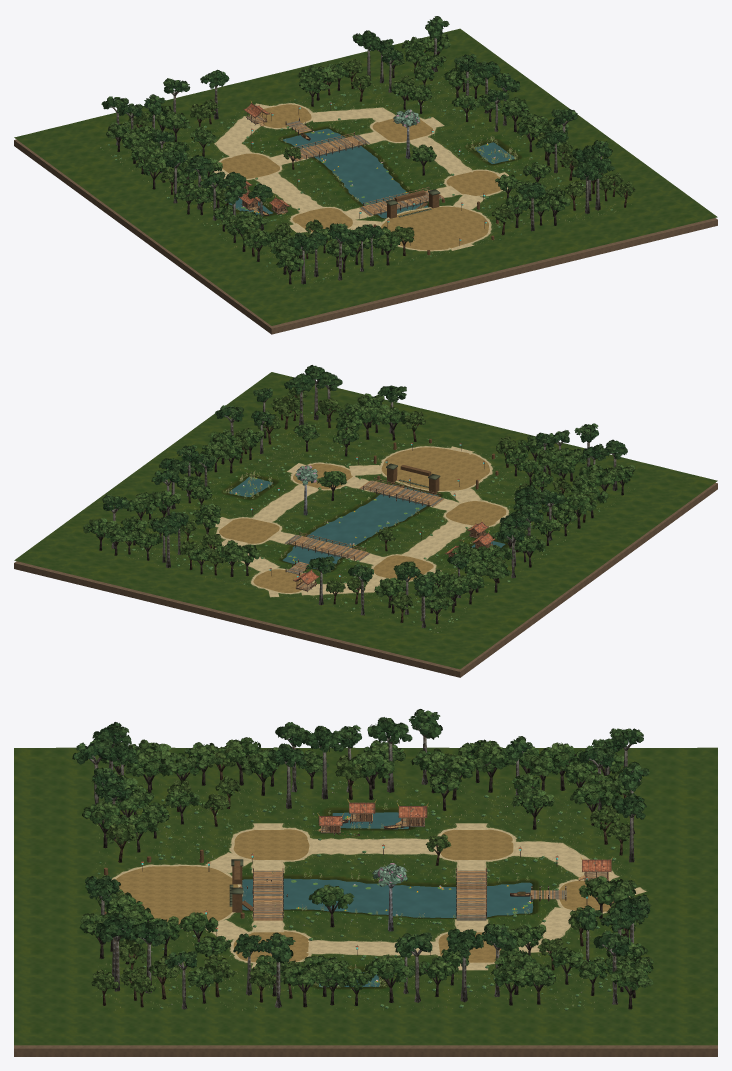
Rendered from rebirth-ferry.glb.
3 views of the same model, one above another, from view 1: azimuth 30°, elevation 25°; view 2: azimuth 150°, elevation 25°; view 3: azimuth 270°, elevation 25° (orthographic). The views are drawn at different scales.
Parts seen in each view (by area): view 1: Ground - varied meadow | meadow_rb, Tracks - worn earth | path_rb, Soil foundation | earth, Tracks - worn earth | path, Water surface | water, Feathered road shoulders | path_edge, Bridge / separate deck boards | plank, Bridge / separate deck boards | wood_light, Bridge / separate deck boards | wood_weathered, Organic understory shrubs | leaf, Bridge / side handrails | wood_light; view 2: Ground - varied meadow | meadow_rb, Tracks - worn earth | path_rb, Soil foundation | earth, Water surface | water, Tracks - worn earth | path, Feathered road shoulders | path_edge, Bridge / separate deck boards | wood_light, Bridge / separate deck boards | plank, Bridge / separate deck boards | wood_weathered, Bridge / side handrails | wood_light; view 3: Ground - varied meadow | meadow_rb, Tracks - worn earth | path_rb, Soil foundation | earth, Water surface | water, Tracks - worn earth | path, Feathered road shoulders | path_edge, Bridge / separate deck boards | wood_light, Bridge / separate deck boards | wood_weathered, Bridge / separate deck boards | plank, Organic understory shrubs | leaf, Roof / overlapping clay tiles | roof, Organic tree foliage | rain-110.008 (+42 smaller).
Boxes of the visible parts, x1,y1,x2,y2 form: Ground - varied meadow | meadow_rb: (14, 28, 717, 325); Tracks - worn earth | path_rb: (221, 104, 501, 250); Soil foundation | earth: (14, 139, 717, 334); Tracks - worn earth | path: (214, 104, 508, 250); Water surface | water: (225, 128, 514, 218); Feathered road shoulders | path_edge: (214, 103, 508, 251); Bridge / separate deck boards | plank: (291, 124, 444, 215); Bridge / separate deck boards | wood_light: (288, 122, 443, 213); Bridge / separate deck boards | wood_weathered: (286, 120, 441, 215); Organic understory shrubs | leaf: (108, 79, 612, 279); Bridge / side handrails | wood_light: (291, 132, 439, 212); Ground - varied meadow | meadow_rb: (14, 372, 717, 669); Tracks - worn earth | path_rb: (219, 447, 506, 592); Soil foundation | earth: (14, 482, 717, 677); Water surface | water: (229, 477, 505, 568); Tracks - worn earth | path: (215, 447, 506, 596); Feathered road shoulders | path_edge: (214, 446, 509, 597); Bridge / separate deck boards | wood_light: (288, 480, 438, 573); Bridge / separate deck boards | plank: (292, 481, 443, 570); Bridge / separate deck boards | wood_weathered: (285, 480, 443, 574); Bridge / side handrails | wood_light: (289, 478, 439, 557); Ground - varied meadow | meadow_rb: (14, 747, 717, 1045); Tracks - worn earth | path_rb: (115, 829, 613, 962); Soil foundation | earth: (14, 830, 717, 1056); Water surface | water: (242, 812, 533, 987); Tracks - worn earth | path: (205, 823, 643, 970); Feathered road shoulders | path_edge: (111, 823, 646, 970); Bridge / separate deck boards | wood_light: (253, 871, 561, 919); Bridge / separate deck boards | wood_weathered: (253, 870, 566, 920); Bridge / separate deck boards | plank: (253, 870, 551, 920); Organic understory shrubs | leaf: (97, 781, 624, 1010); Roof / overlapping clay tiles | roof: (319, 803, 610, 871); Organic tree foliage | rain-110.008: (364, 954, 415, 982).
Bounding box in the file's own units: 180 × 24.86 × 180.
43 materials, 38 textured.
